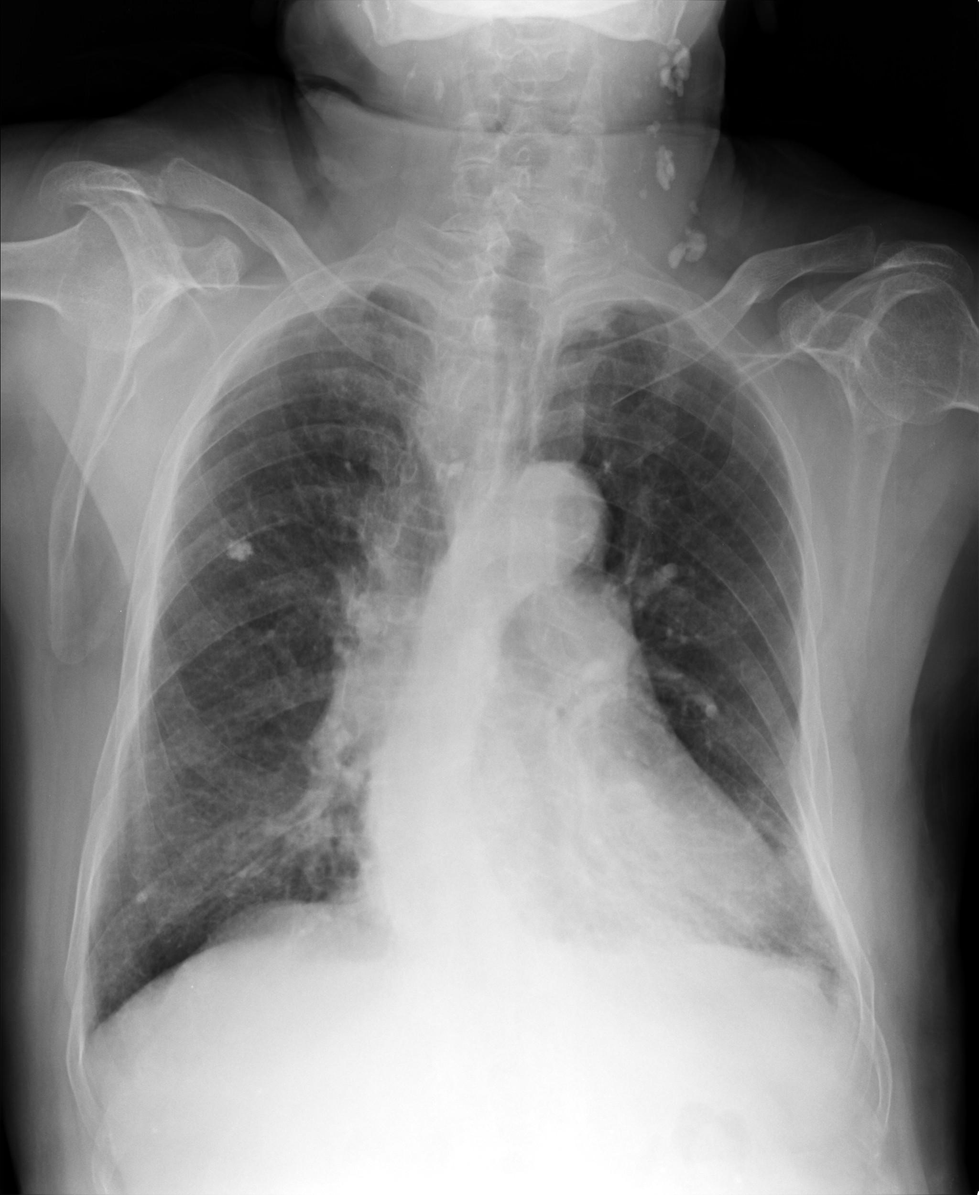Aortic enlargement: (505, 459, 609, 592)
Cardiomegaly: (361, 801, 790, 953)
Pleural thickening: (286, 264, 441, 318), (563, 272, 658, 341)
